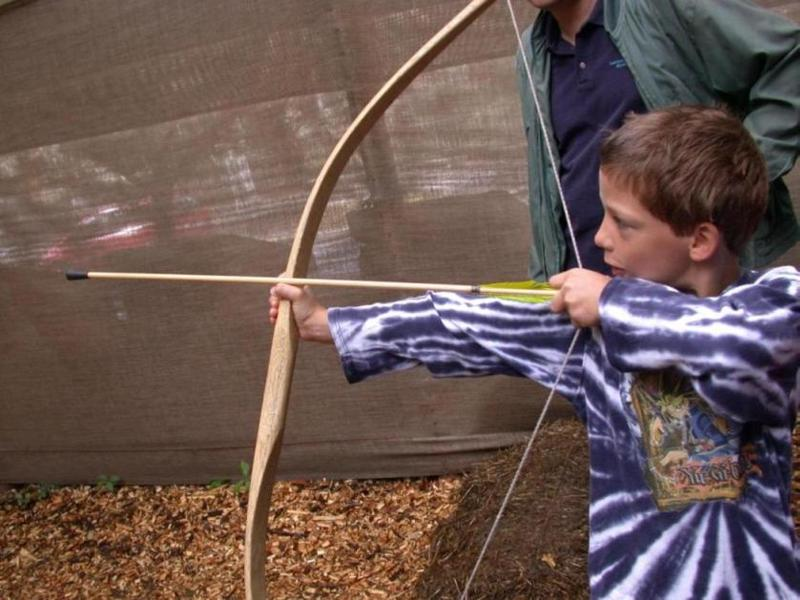person: (270, 107, 800, 598)
